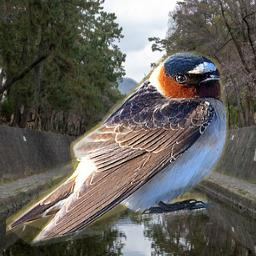Swallow: (6, 51, 229, 249)
